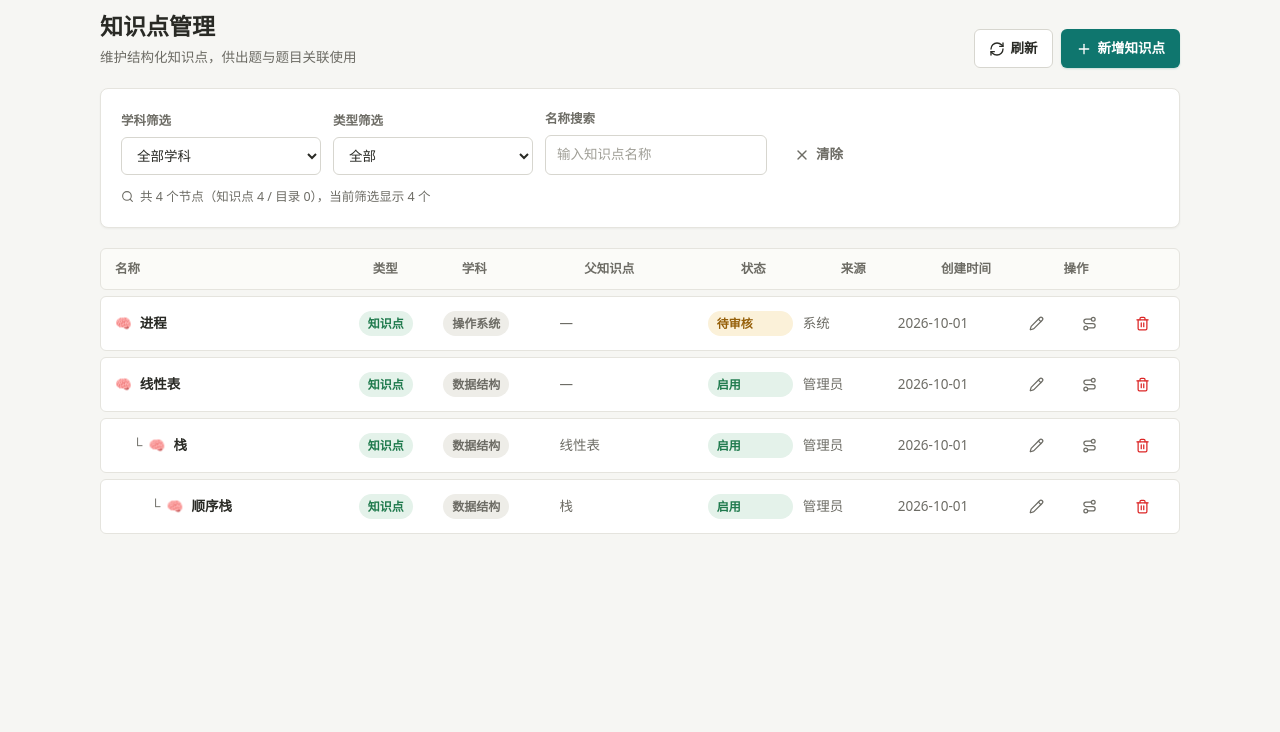
Test: AdminKnowledgePointsView › 存在子知识点时展示后端中文错误
The width and height of the screenshot is (1280, 732).
What coordinates should you click on to do the following:
click the 2nd button titled "删除"
I would click on:
 (1142, 384)
Its box is x1=1120 y1=368 x2=1165 y2=401.
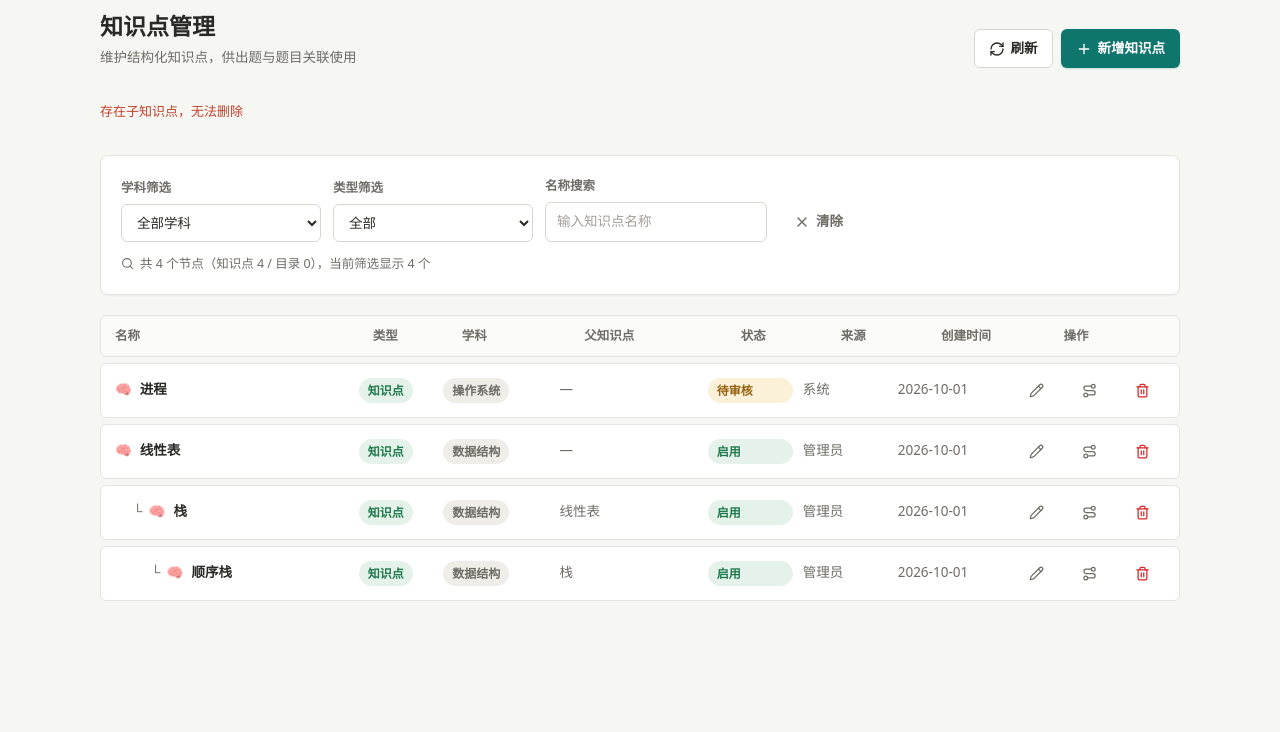
Expected: the text "存在子知识点，无法删除" is shown, x1=100 y1=102 x2=243 y2=120
